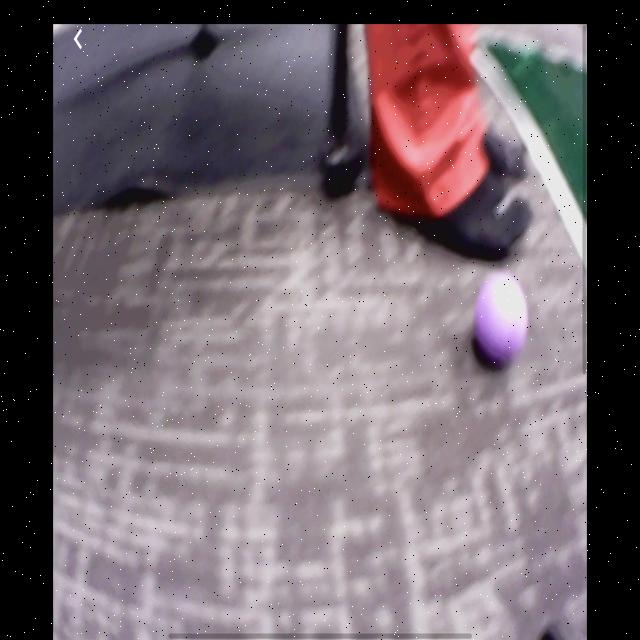ball: (474, 270, 531, 370)
